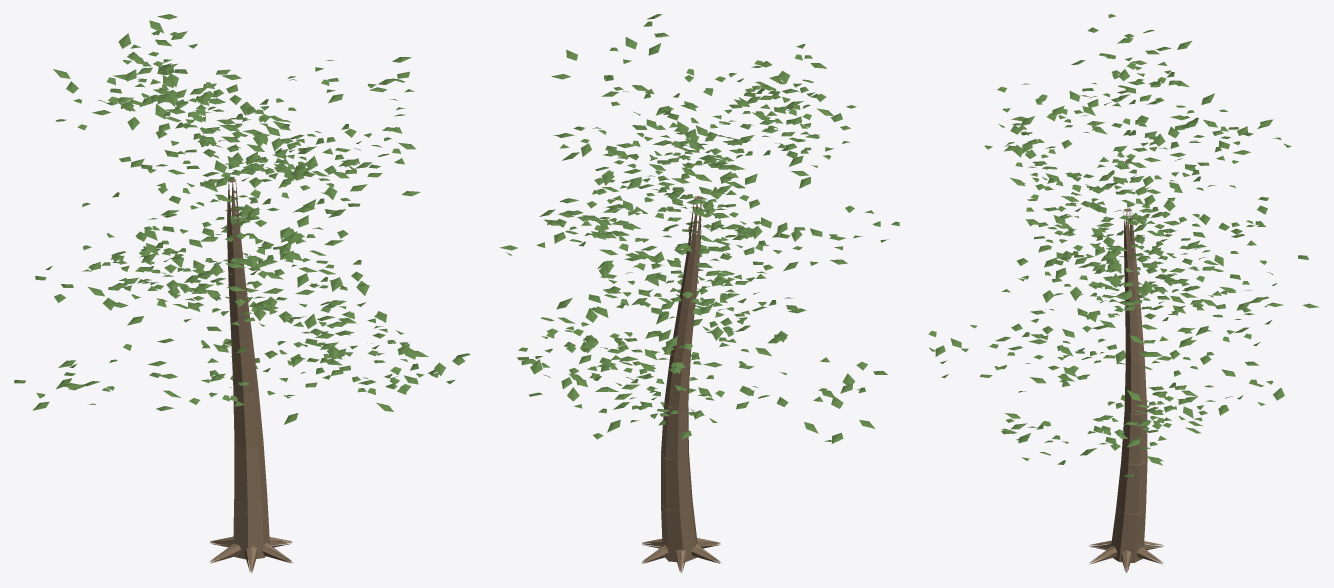
Rendered from oak_7_lod.glb.
The picture shows the model from 3 angles, left to right: view 1: azimuth 30°, elevation 25°; view 2: azimuth 150°, elevation 25°; view 3: azimuth 270°, elevation 25°; orthographic projection. The views are drawn at different scales.
Visible parts, largest first — view 1: oak_7; view 2: oak_7; view 3: oak_7.
Boxes of the visible parts, x1,y1,x2,y2 form: oak_7: [14, 14, 470, 573]; oak_7: [499, 14, 899, 572]; oak_7: [928, 14, 1319, 573].
Size of the model in its own units: 10.73 by 14.95 by 10.88.
